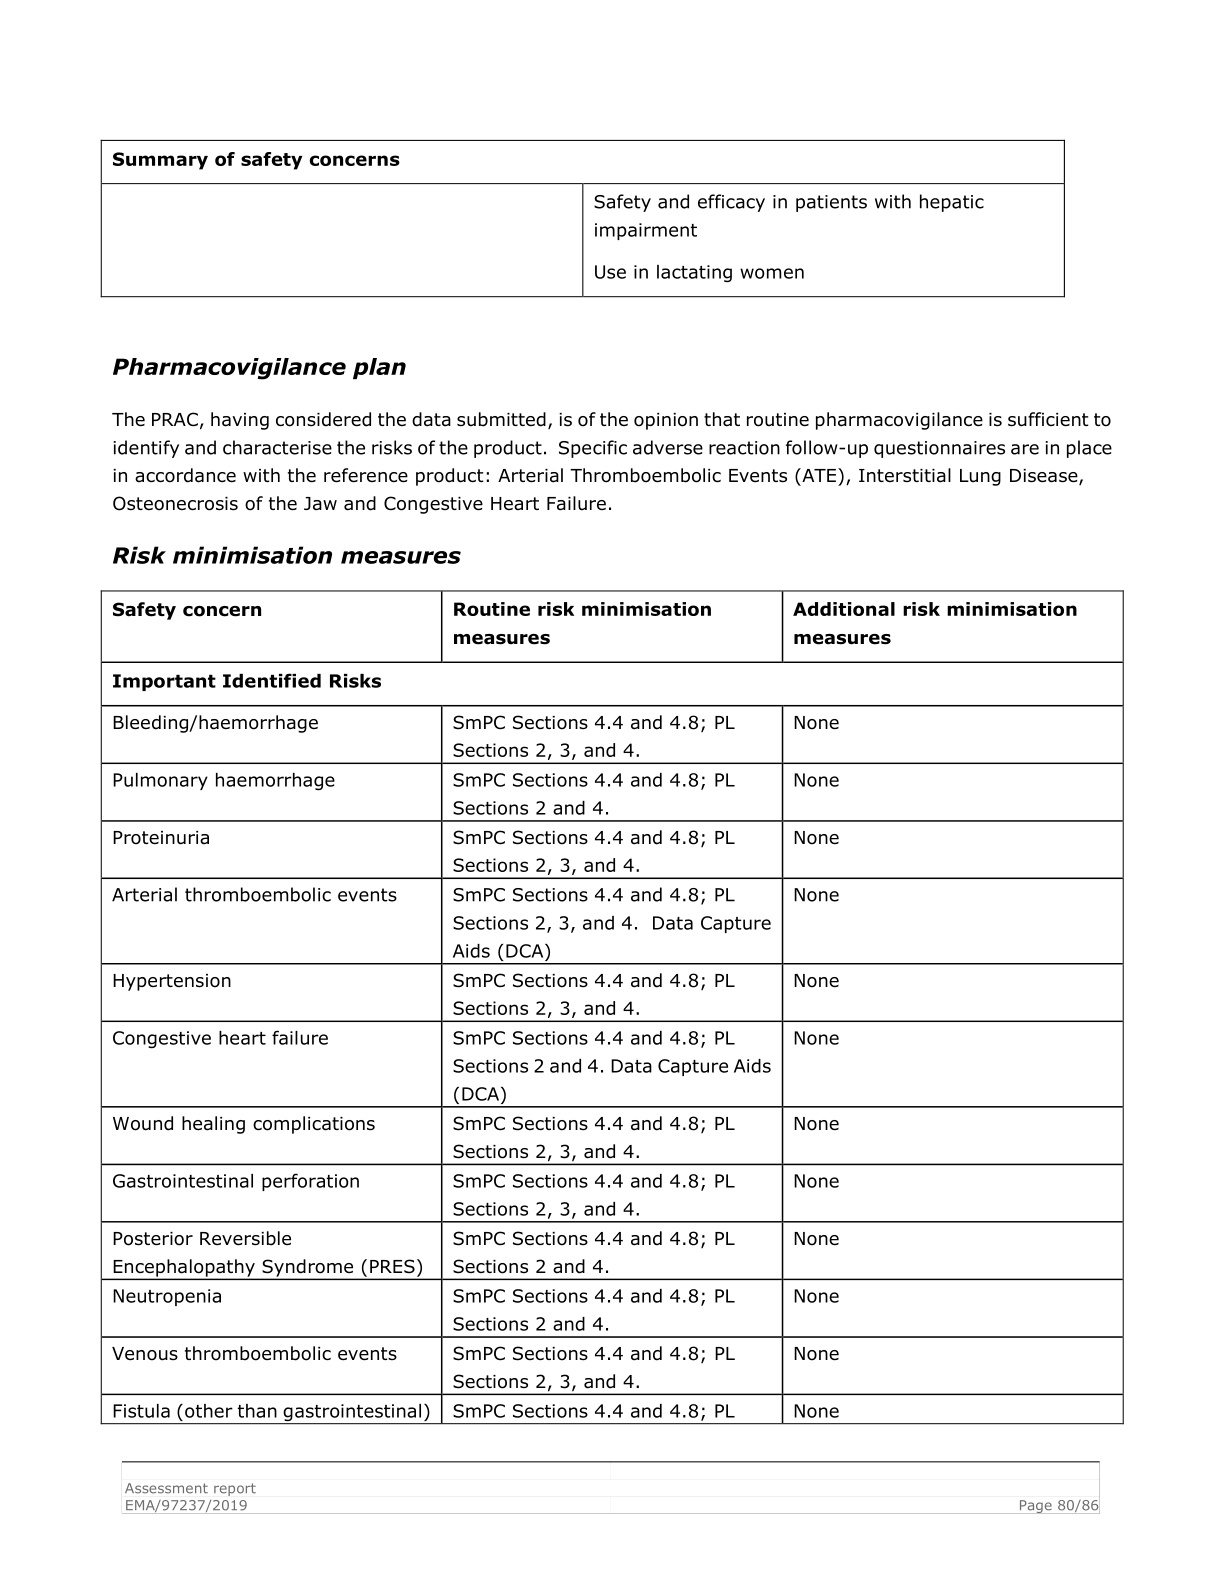merged_cells: (100, 588, 1124, 1425), (99, 138, 1066, 298)
